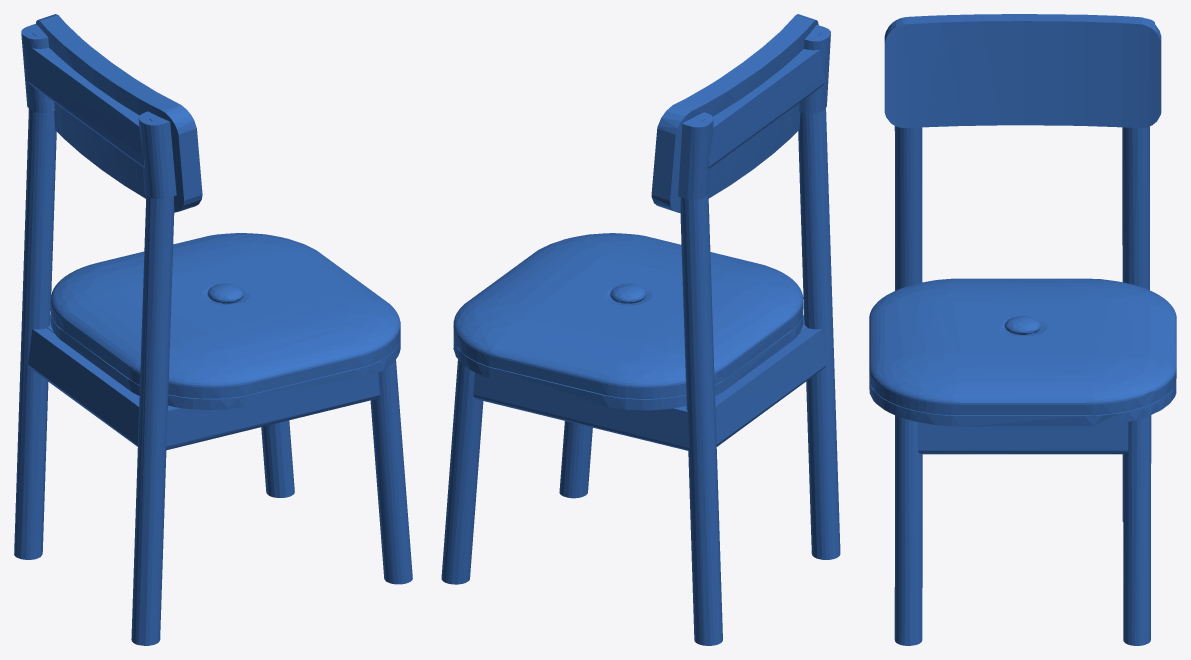
File: chair.glb
The picture shows the model from 3 angles, left to right: view 1: azimuth 30°, elevation 25°; view 2: azimuth 150°, elevation 25°; view 3: azimuth 270°, elevation 25°; orthographic projection. The views are drawn at different scales.
Visible parts, largest first — view 1: Mesh_Mesh_head_geo001_lambert2SG001; view 2: Mesh_Mesh_head_geo001_lambert2SG001; view 3: Mesh_Mesh_head_geo001_lambert2SG001.
Part boxes in pixels (x1,y1,x2,y2): Mesh_Mesh_head_geo001_lambert2SG001: [14, 14, 412, 645]; Mesh_Mesh_head_geo001_lambert2SG001: [441, 14, 840, 645]; Mesh_Mesh_head_geo001_lambert2SG001: [869, 14, 1176, 645].
Bounding box in the file's own units: 113 × 204 × 111.
